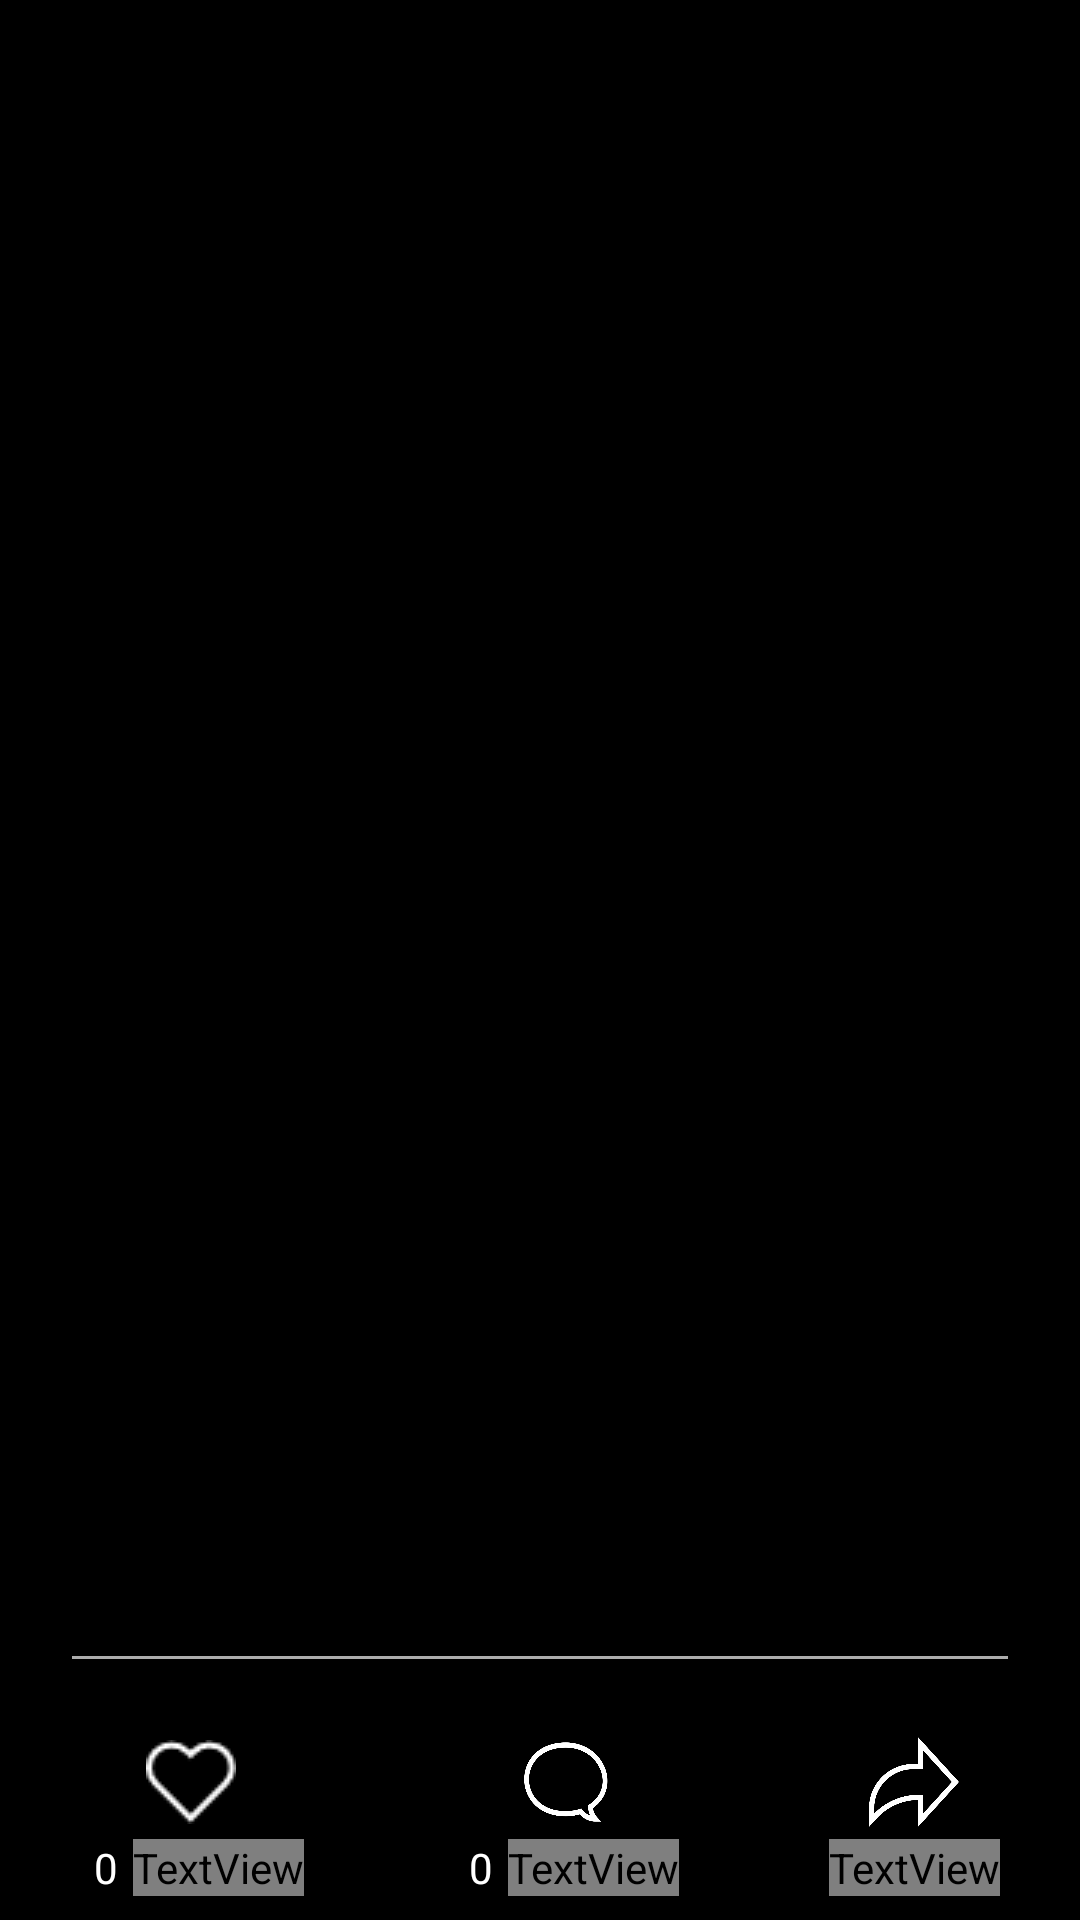

Screen size 1080x1920. Icon name, then its center in pixels as [x,y]:
sharewhite: [914,1782]
whitecomment: [566,1782]
whiteheart: [191,1782]
